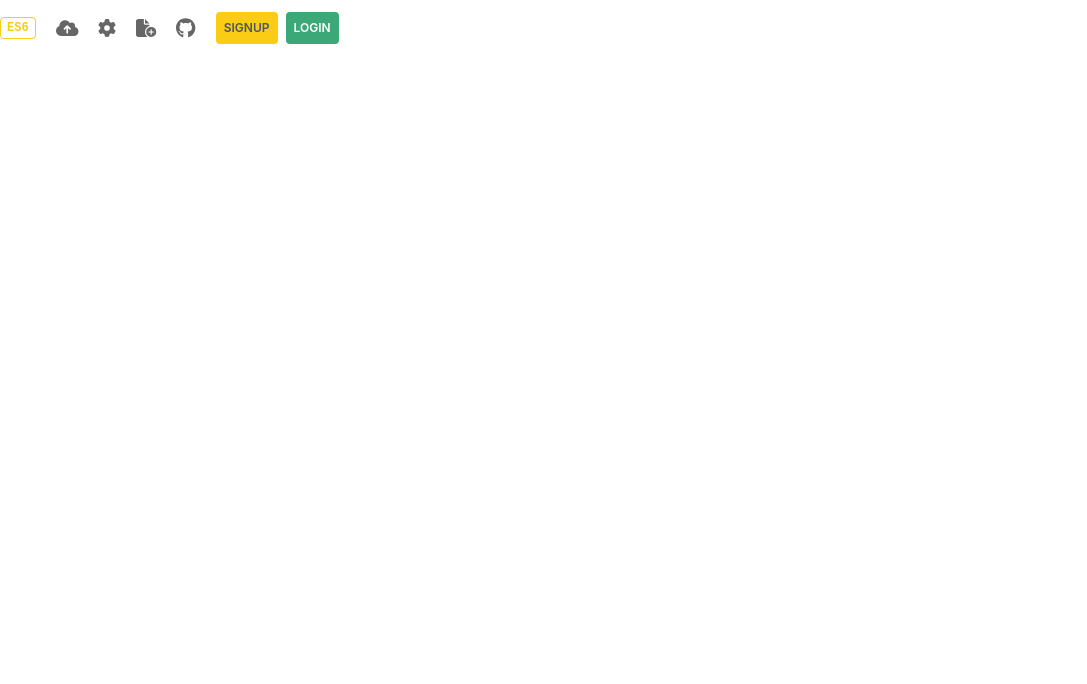
Test case: CodeFeature Component › correct show popup › settings popup
Click the picture named "fa-gear" at point(107, 28), box [98,19,116,37]
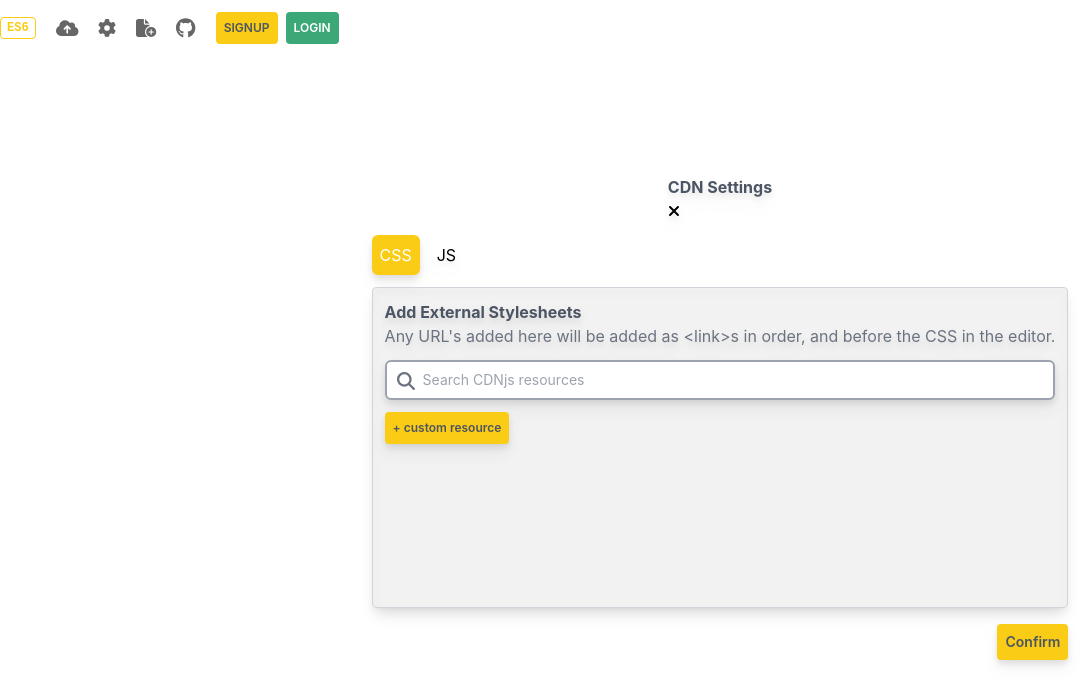
Check: the heading "CDN Settings" is shown, box [668,174,772,198]
